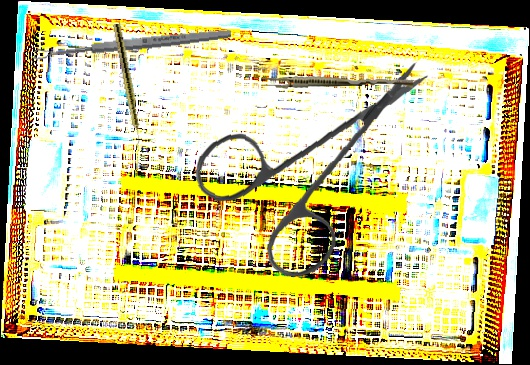Handpiece: (111, 23, 145, 149)
Iris Scissors: (188, 47, 430, 287)
Surgical Spoon: (33, 27, 232, 61)
Tissue Forceps: (260, 73, 414, 91)
